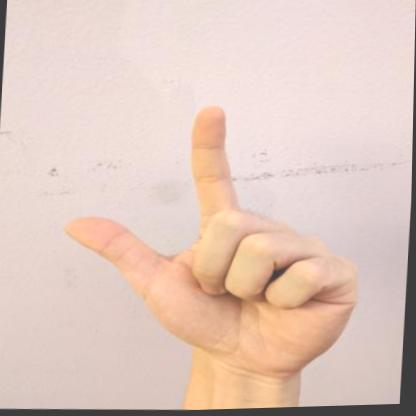L: (51, 93, 375, 395)
